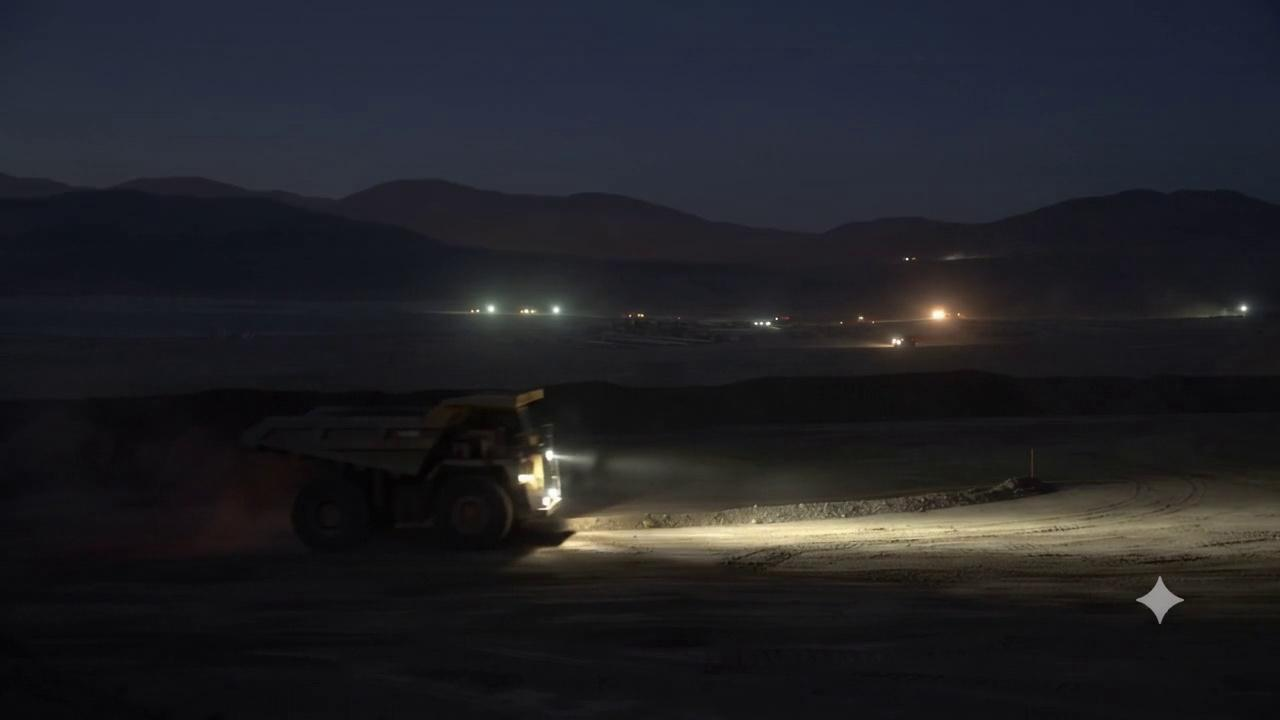CAEX: (238, 388, 568, 552)
